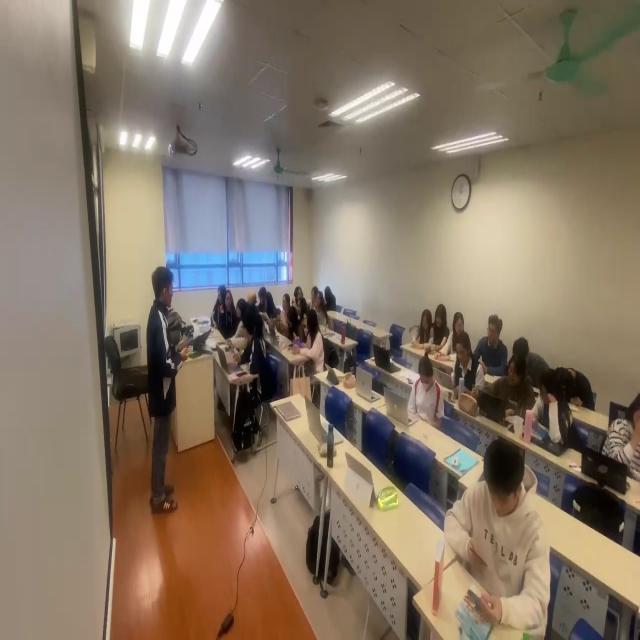raise_head: (474, 314, 509, 380)
sleep: (559, 361, 599, 415)
stand: (145, 267, 190, 516)
using_computer: (394, 354, 443, 437), (528, 364, 572, 455), (483, 350, 533, 430), (447, 334, 487, 408)
using_phone: (459, 448, 524, 579)
